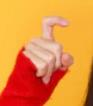anticlockwise: (19, 14, 77, 83)
